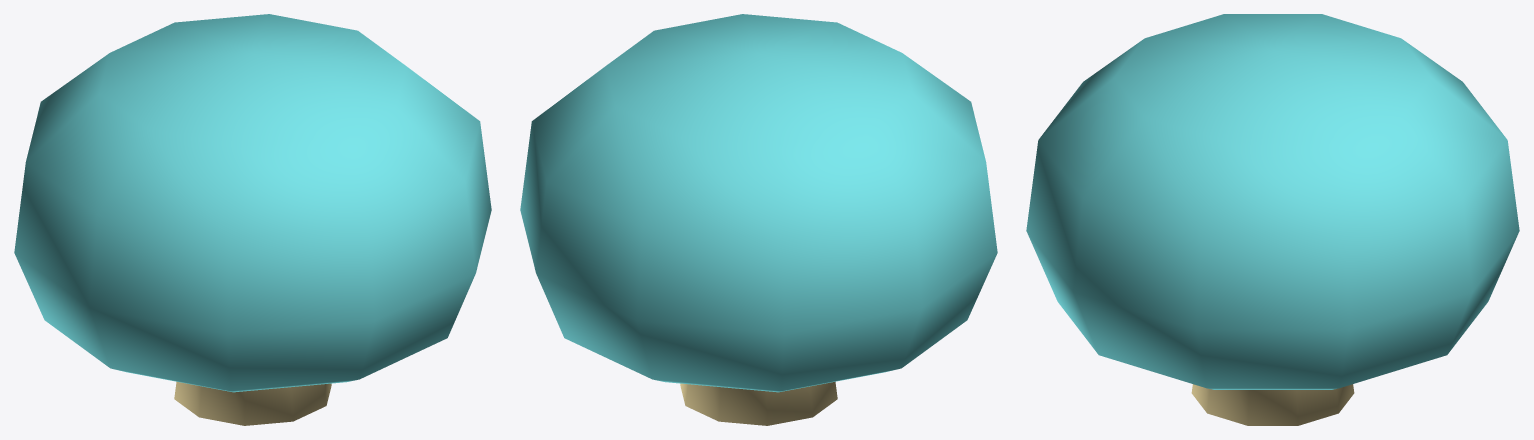
File: Mushroom1_Bogdan.fbx
3 views of the same model, side by side, from view 1: azimuth 30°, elevation 25°; view 2: azimuth 150°, elevation 25°; view 3: azimuth 270°, elevation 25° (orthographic).
Parts seen in each view (by area): view 1: Mushroom1; view 2: Mushroom1; view 3: Mushroom1.
Part boxes in pixels (x1=…): Mushroom1: x1=14, y1=14, x2=491, y2=425; Mushroom1: x1=520, y1=14, x2=997, y2=425; Mushroom1: x1=1026, y1=14, x2=1519, y2=425.
Bounding box in the file's own units: 76.6 × 61.6 × 80.54.
